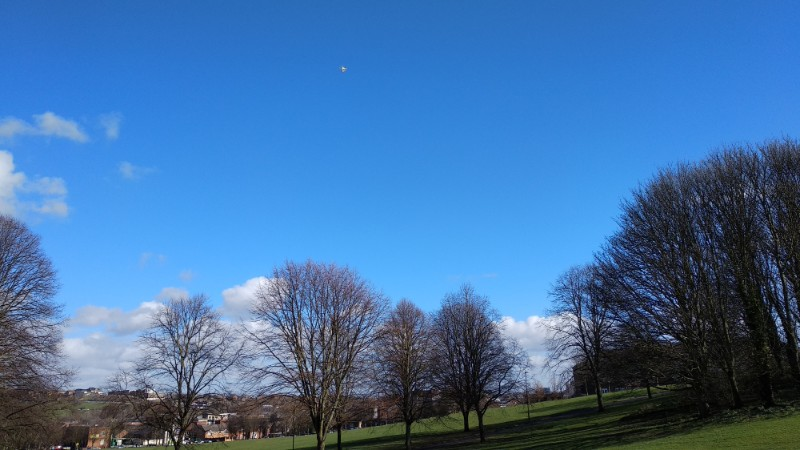drone: (337, 64, 349, 73)
